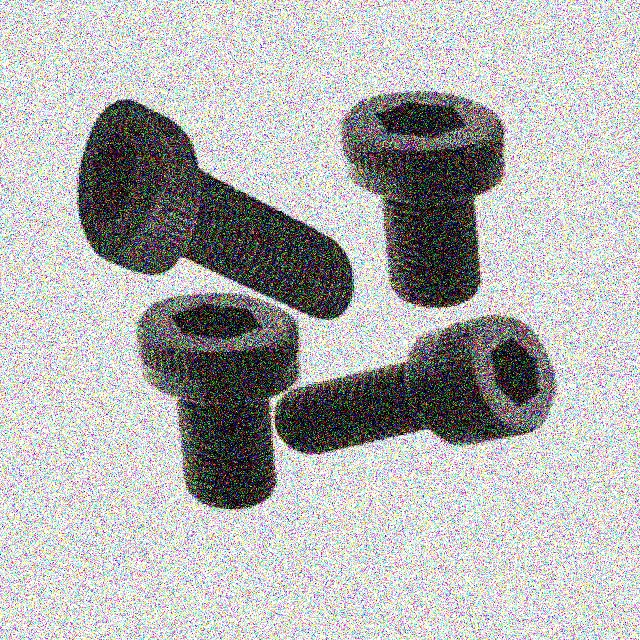allen: (77, 104, 195, 264), (451, 317, 557, 439), (345, 92, 499, 168), (137, 294, 295, 366)
